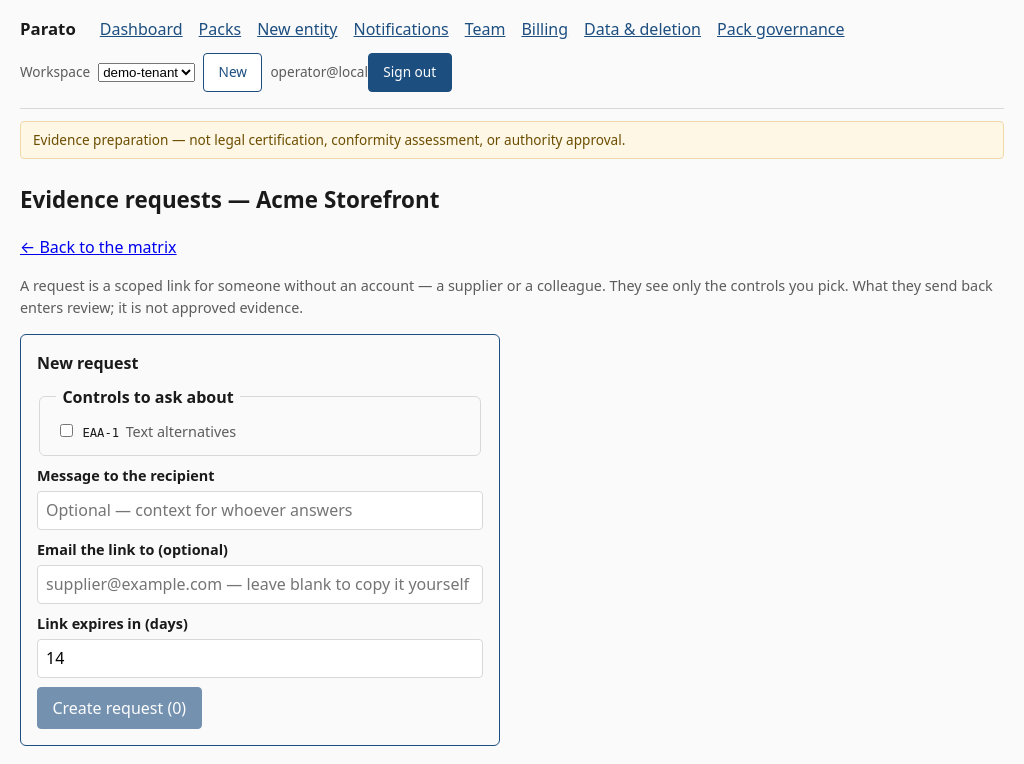
Test: RequestsPage › offers only applicable controls and reveals the one-time link after creating a request
This screenshot has width=1024, height=764.
Expected: the text "EAA-1" is shown, 82,424 -> 119,442
Click the checkbox.
click(66, 430)  # box 60,424 -> 73,437
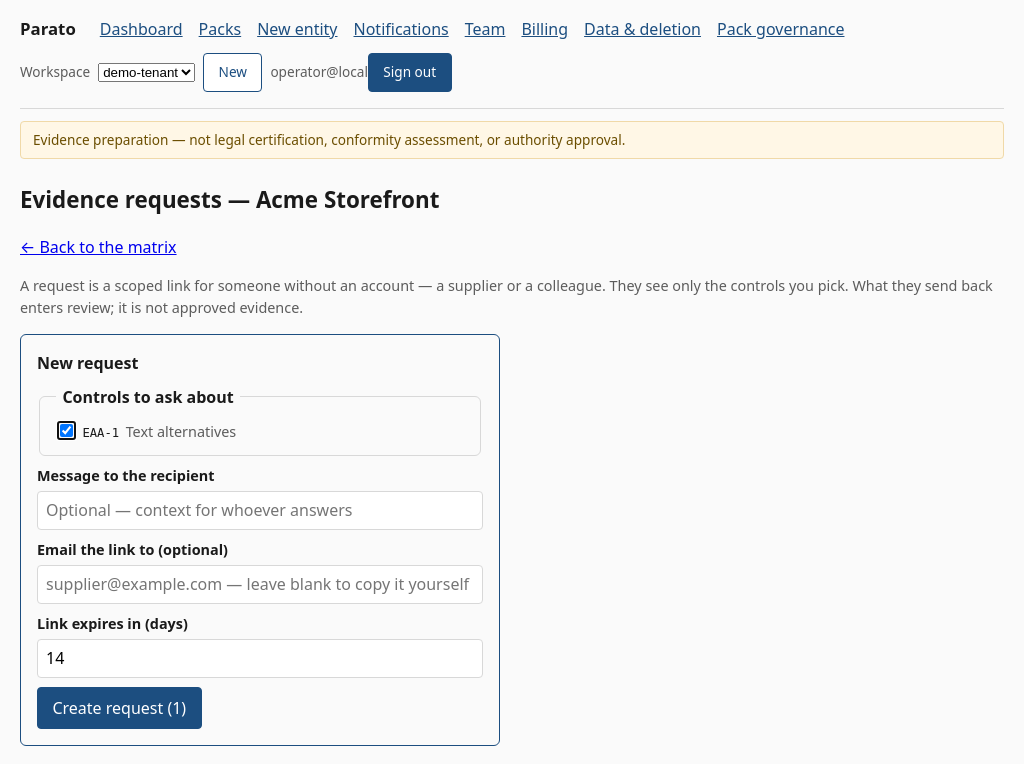
Click the button "Create request (1)".
click(119, 708)  # box 37,687 -> 202,729
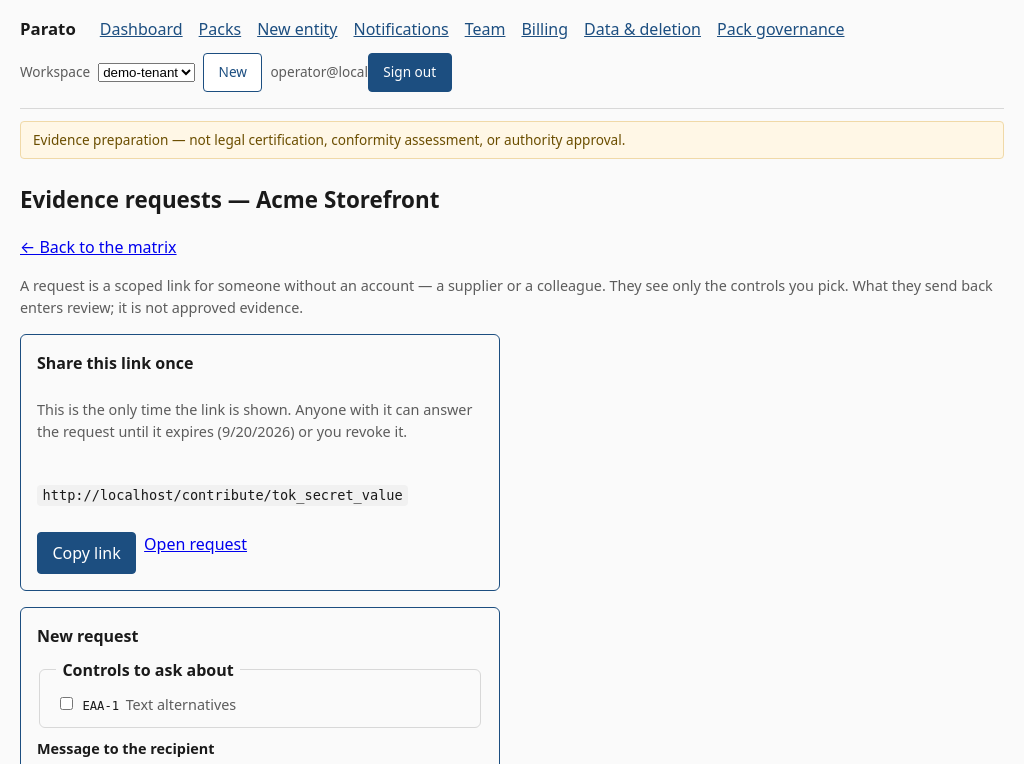
Expected: the heading "Share this link once" is shown, 37,352 -> 194,374
Expected: the text "http://localhost/contribute/tok_secret_value" is shown, 37,485 -> 408,506
